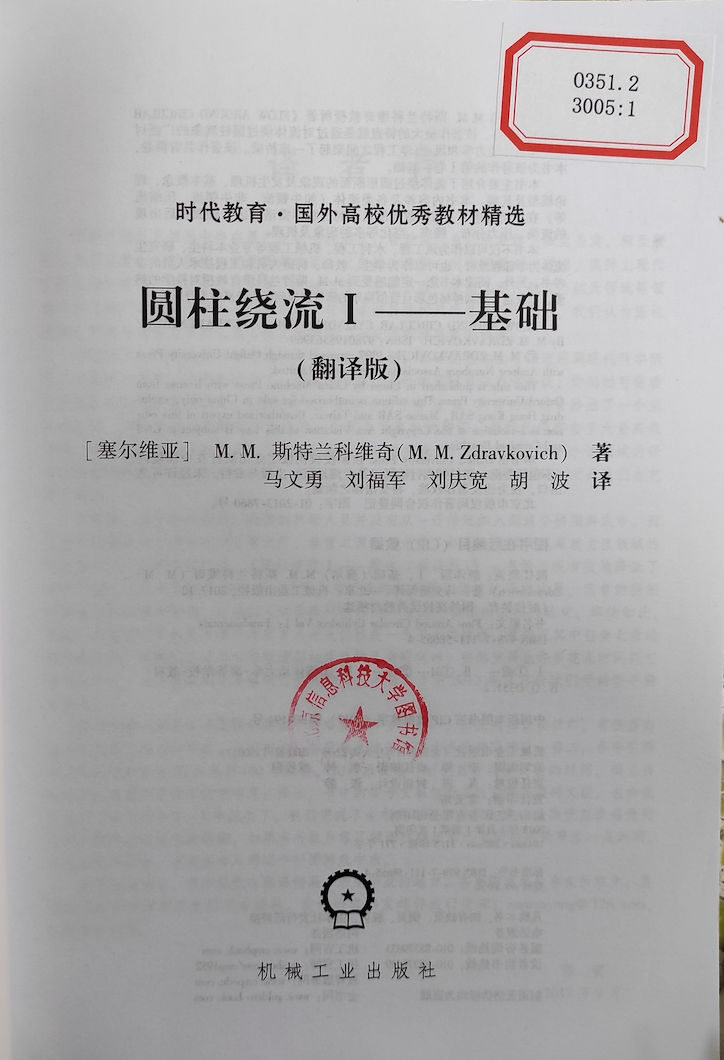Text_area: (141, 176, 584, 385), (77, 380, 656, 514), (502, 22, 724, 180), (219, 851, 457, 995), (262, 639, 468, 791)
